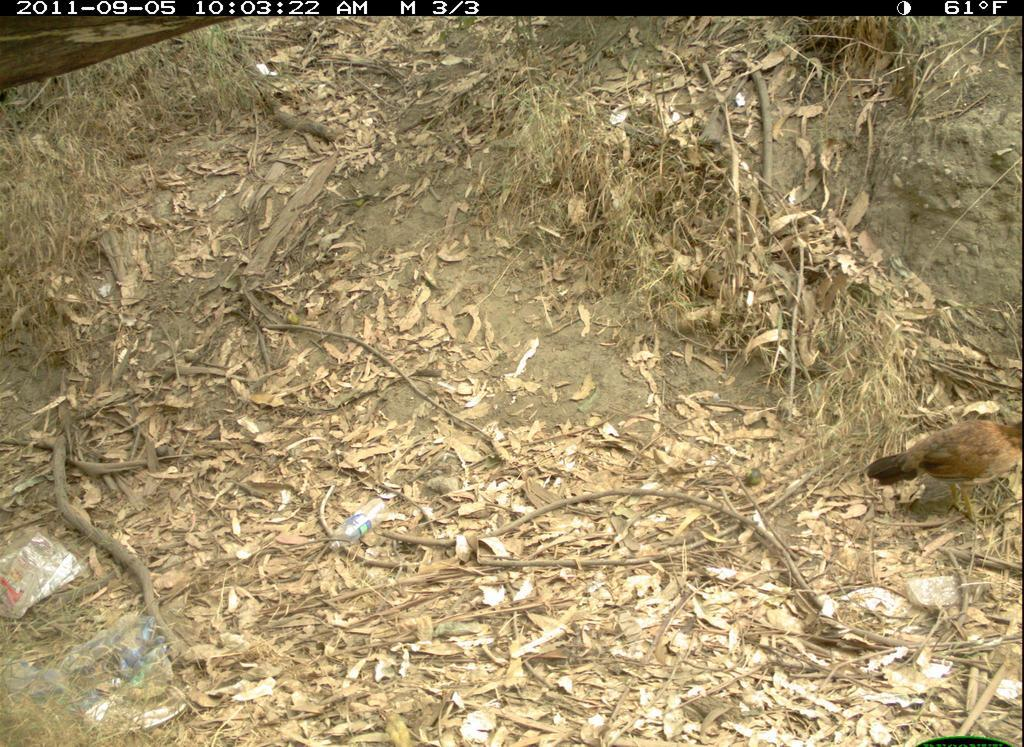bird: (861, 405, 1023, 536)
